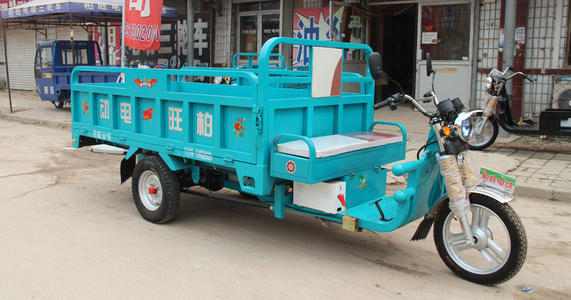tricycle: (48, 43, 534, 282)
